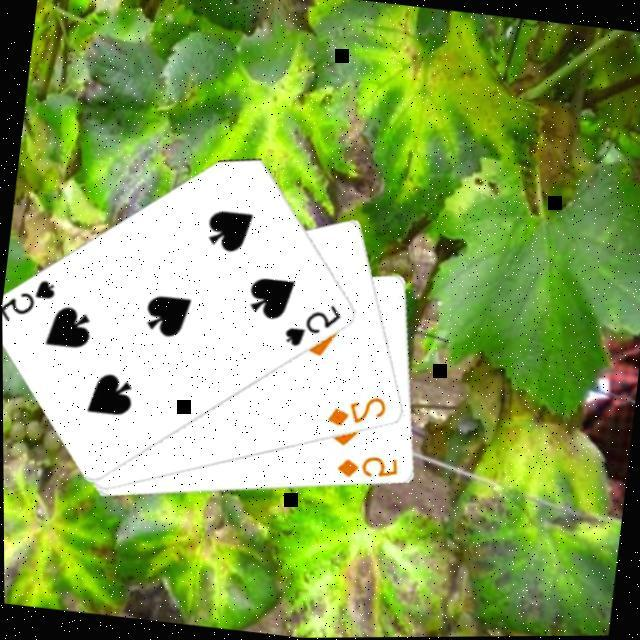2D: (324, 388, 392, 434)
5D: (333, 448, 403, 486)
5S: (281, 295, 347, 354), (2, 270, 62, 329)
